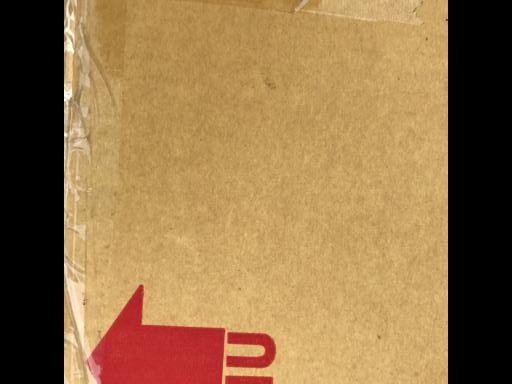cardboard: (0, 4, 446, 384)
